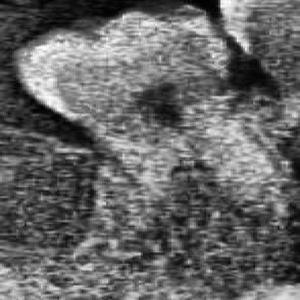tooth: (11, 1, 275, 204)
